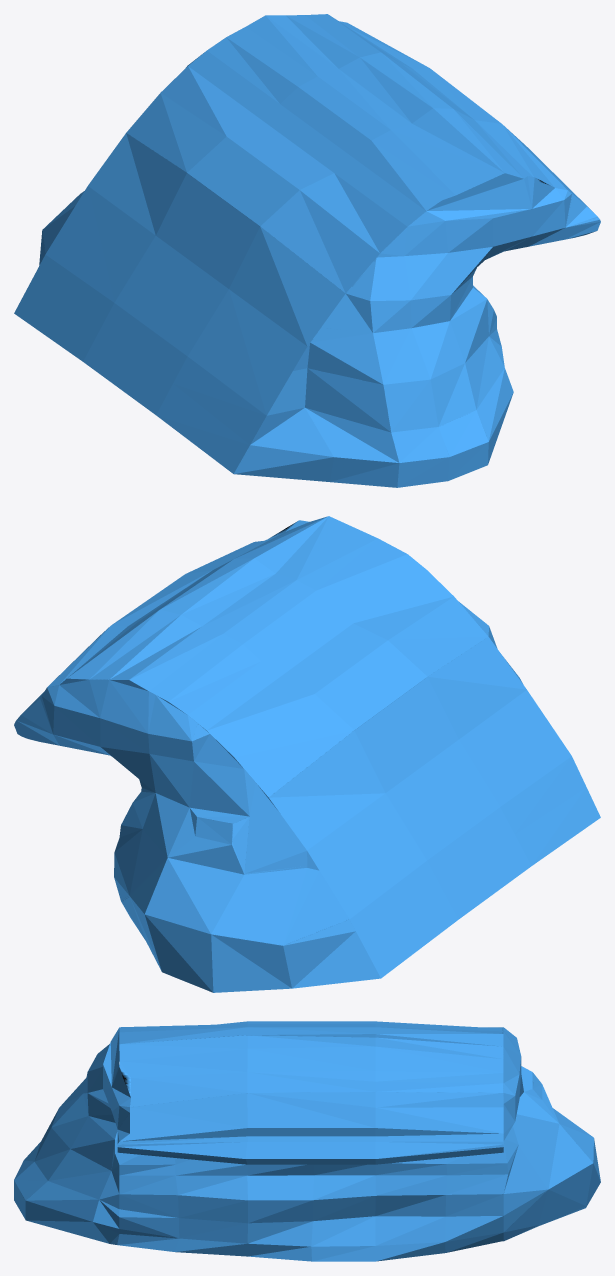
Rendered from wave.glb.
The picture shows the model from 3 angles, top to bottom: view 1: azimuth 30°, elevation 25°; view 2: azimuth 150°, elevation 25°; view 3: azimuth 270°, elevation 25°; orthographic projection. The views are drawn at different scales.
Parts seen in each view (by area): view 1: Node; view 2: Node; view 3: Node.
Boxes of the visible parts, x1,y1,x2,y2 form: Node: (14, 14, 600, 487); Node: (14, 516, 600, 992); Node: (14, 1021, 600, 1261).
Size of the model in its own units: 8506 by 5318 by 12839.
Materials: 1 (1 with a texture image).
